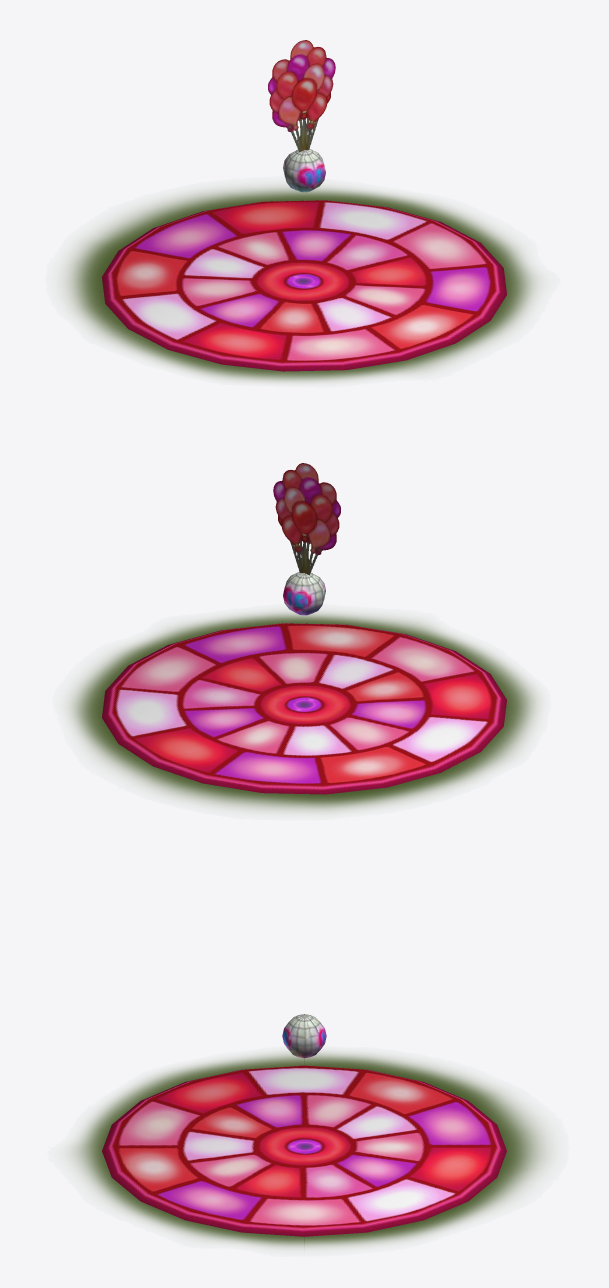
Rendered from dance_valentine.glb.
3 renders of one model, top to bottom at view 1: azimuth 30°, elevation 25°; view 2: azimuth 150°, elevation 25°; view 3: azimuth 270°, elevation 25°, orthographic.
Visible parts, largest first — view 1: danceFloor_mesh, danceFloor_shadow, balloon_flat10__billboard, discoBall_10; view 2: danceFloor_mesh, danceFloor_shadow, balloon_flat10__billboard, discoBall_10; view 3: danceFloor_mesh, danceFloor_shadow, discoBall_10.
Part boxes in pixels (x1,y1,x2,y2): danceFloor_mesh: (102, 200, 506, 371); danceFloor_shadow: (64, 186, 537, 381); balloon_flat10__billboard: (268, 40, 335, 152); discoBall_10: (283, 149, 325, 192); danceFloor_mesh: (102, 623, 506, 794); danceFloor_shadow: (69, 612, 537, 811); balloon_flat10__billboard: (273, 463, 340, 575); discoBall_10: (283, 572, 325, 615); danceFloor_mesh: (102, 1065, 506, 1236); danceFloor_shadow: (70, 1052, 548, 1248); discoBall_10: (282, 1014, 326, 1058).
Bounding box in the file's own units: 61.51 × 29.09 × 61.51.
Materials: 4 (4 with a texture image).
